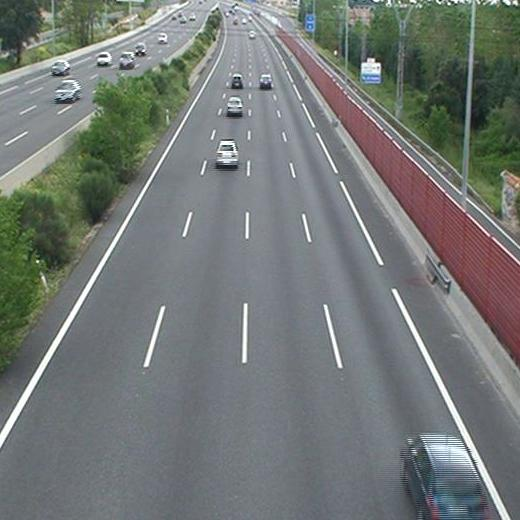car: (405, 438, 485, 520), (215, 140, 238, 165), (226, 97, 243, 113), (260, 73, 271, 86), (231, 75, 242, 87)
